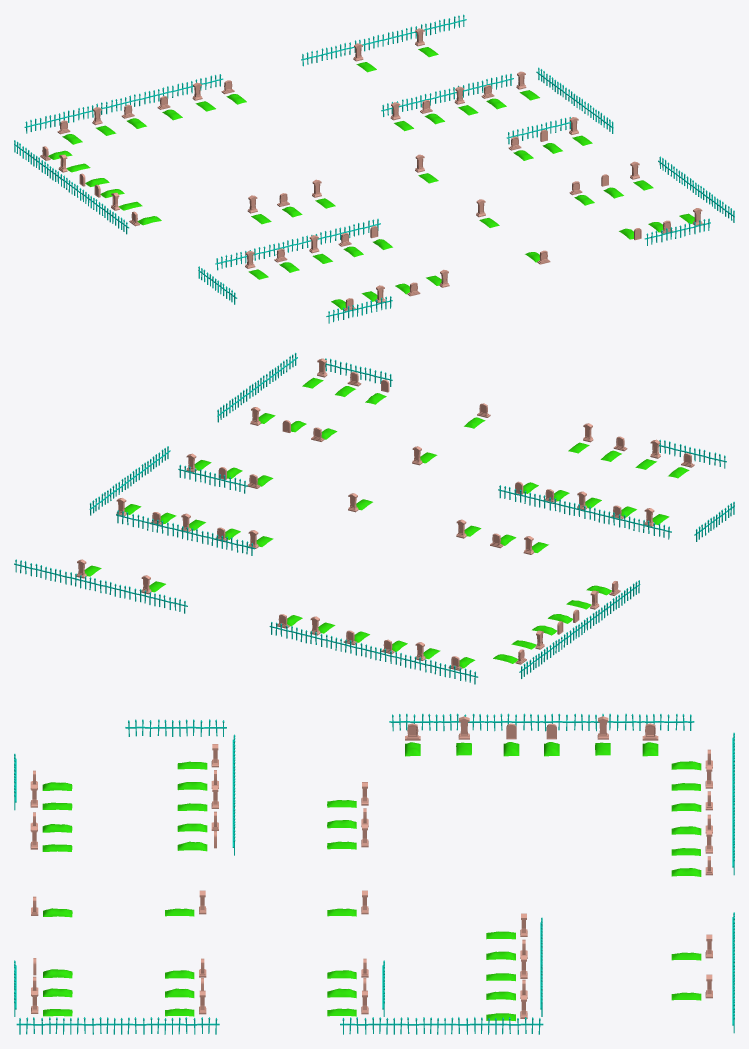
File: Horizon_Graveyard.fbx
3 views of the same model, one above another, from view 1: azimuth 30°, elevation 25°; view 2: azimuth 150°, elevation 25°; view 3: azimuth 270°, elevation 25° (orthographic). The views are drawn at different scales.
Visible parts, largest first — view 1: Graveyard; view 2: Graveyard; view 3: Graveyard.
Part boxes in pixels (x1,y1,x2,y2): Graveyard: (14, 14, 734, 323); Graveyard: (14, 352, 734, 684); Graveyard: (14, 713, 734, 1034).
Bounding box in the file's own units: 4274 × 155 × 4281.
